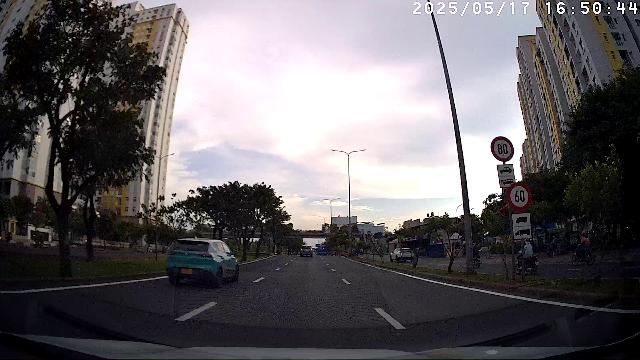127-toc-do-toi-da-60: (506, 182, 532, 212)
127-toc-do-toi-da-80: (490, 136, 514, 162)
